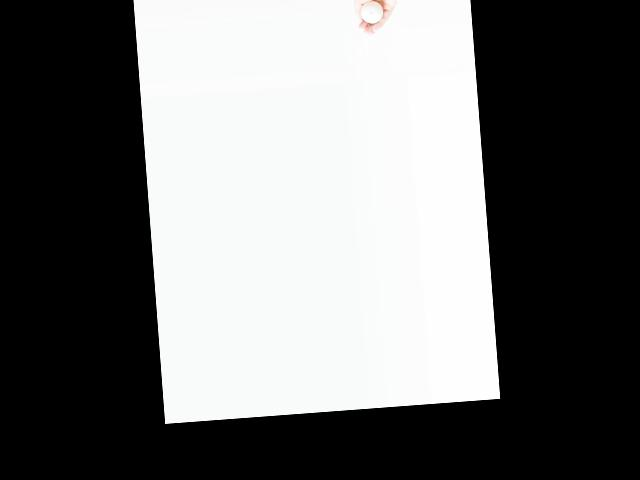egg: (360, 0, 384, 24)
